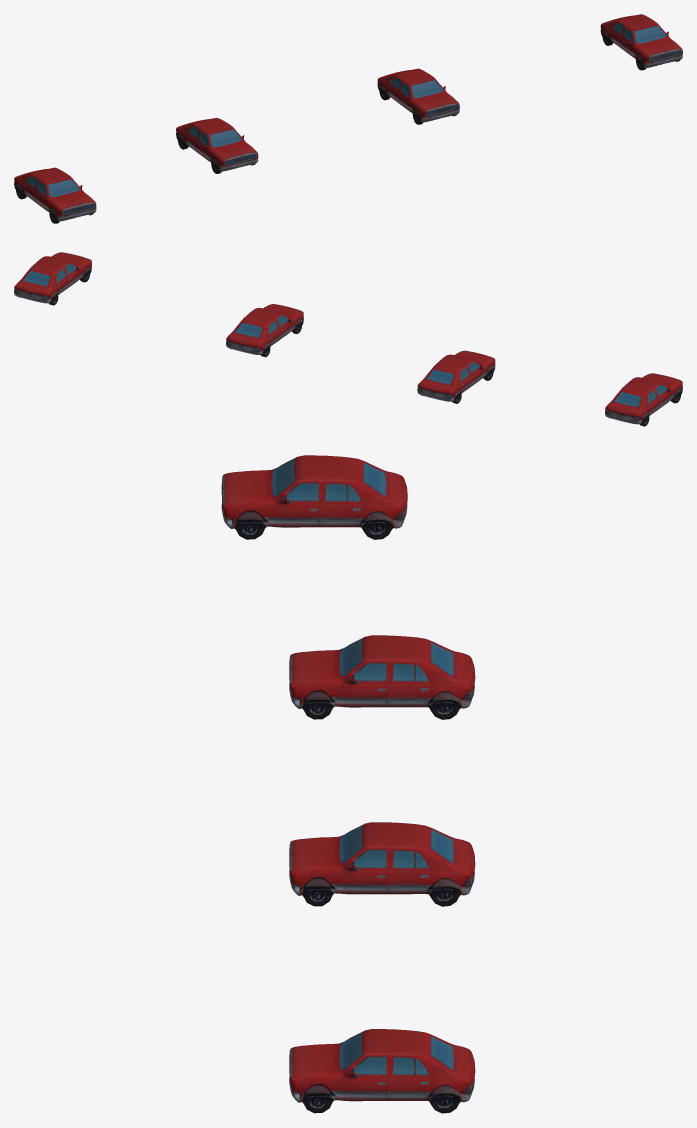
The model's file is autosrojos.obj.
3 renders of one model, top to bottom at view 1: azimuth 30°, elevation 25°; view 2: azimuth 150°, elevation 25°; view 3: azimuth 270°, elevation 25°, orthographic. The views are drawn at different scales.
Visible parts, largest first — view 1: autosrojos; view 2: autosrojos; view 3: autosrojos.
Part boxes in pixels (x1,y1,x2,y2): autosrojos: (14, 14, 682, 223); autosrojos: (14, 252, 682, 426); autosrojos: (221, 455, 475, 1113).
Bounding box in the file's own units: 42.63 × 2.32 × 7.63.
Materials: 4 (4 with a texture image).
